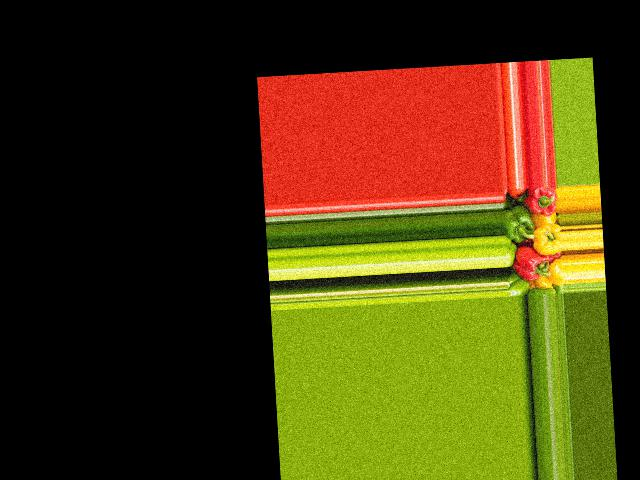bell_pepper: (523, 186, 558, 221)
